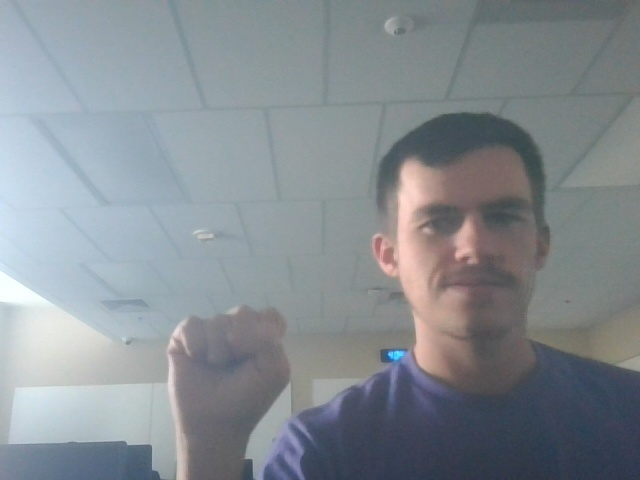yes: (147, 300, 308, 429)
